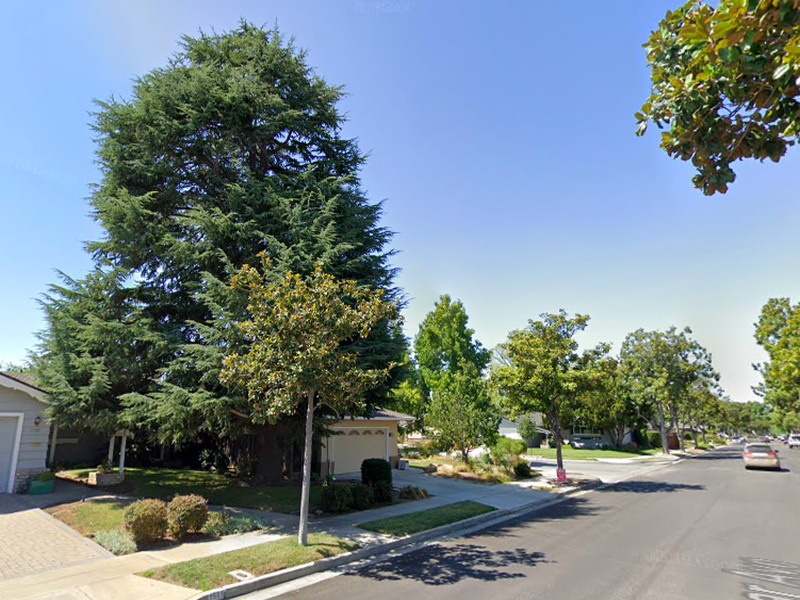tree: (25, 13, 416, 489), (219, 249, 403, 549), (489, 309, 610, 485), (399, 293, 497, 462)
